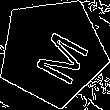M_NW: (20, 20, 85, 84)
